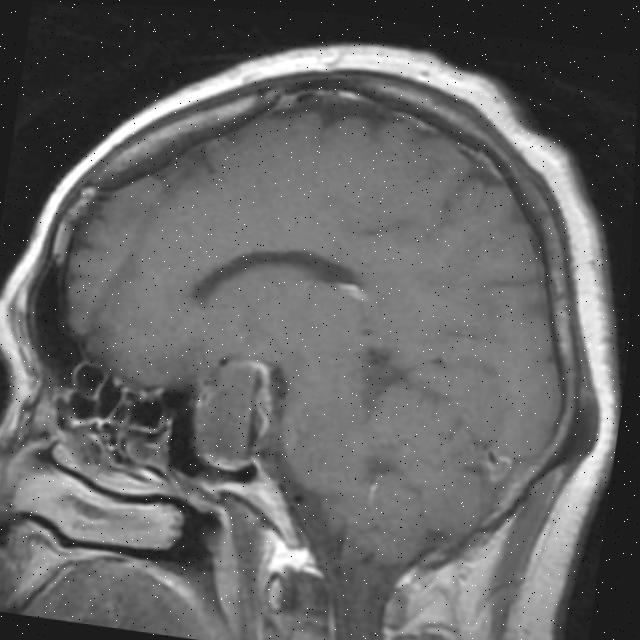Pituitary: (183, 351, 277, 476)
